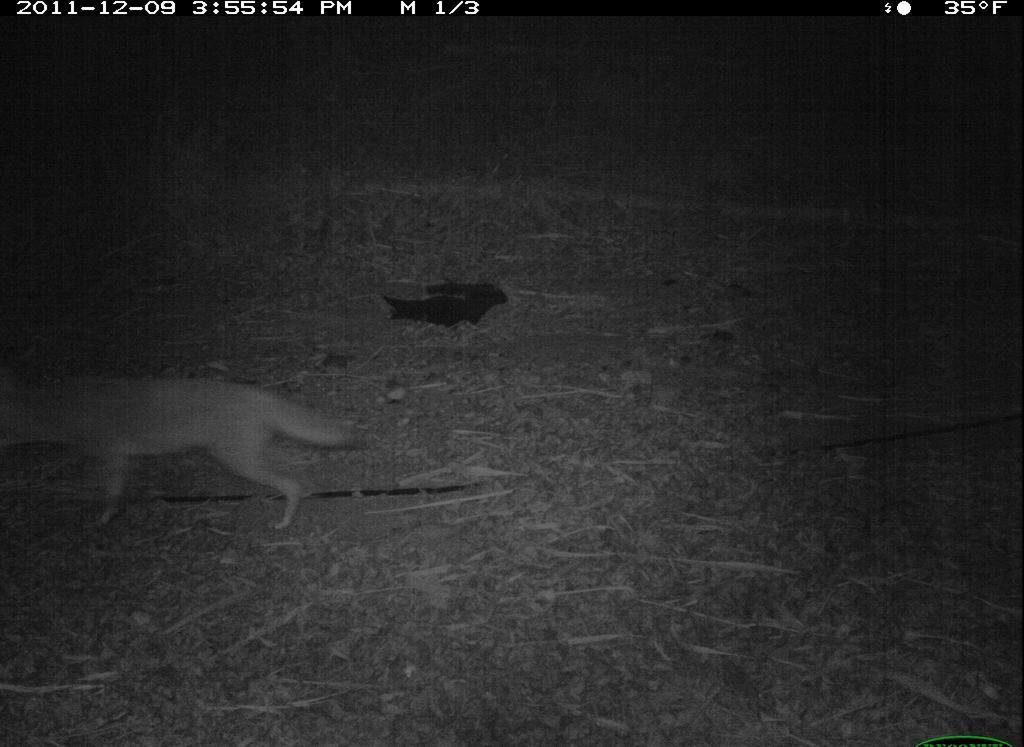coyote: (2, 370, 368, 538)
